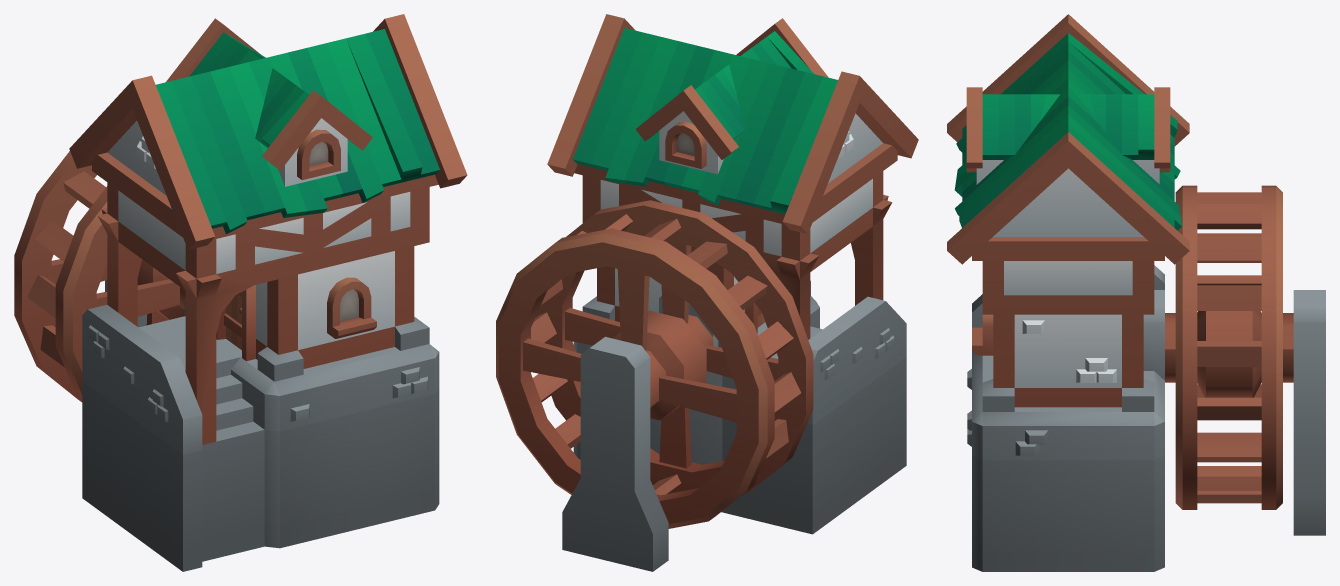
File: building_watermill_green.gltf
3 renders of one model, left to right at view 1: azimuth 30°, elevation 25°; view 2: azimuth 150°, elevation 25°; view 3: azimuth 270°, elevation 25°, orthographic. The views are drawn at different scales.
Visible parts, largest first — view 1: building_watermill_green, building_watermill_wheel_green; view 2: building_watermill_green, building_watermill_wheel_green; view 3: building_watermill_green, building_watermill_wheel_green.
Boxes of the visible parts, bbox=[...] form: building_watermill_green: bbox=[69, 14, 467, 571]; building_watermill_wheel_green: bbox=[14, 151, 185, 402]; building_watermill_green: bbox=[547, 14, 918, 571]; building_watermill_wheel_green: bbox=[496, 200, 813, 528]; building_watermill_green: bbox=[947, 14, 1325, 571]; building_watermill_wheel_green: bbox=[1165, 185, 1293, 509].
Bounding box in the file's own units: 1.05 × 1.57 × 1.24.
Materials: 1 (1 with a texture image).
